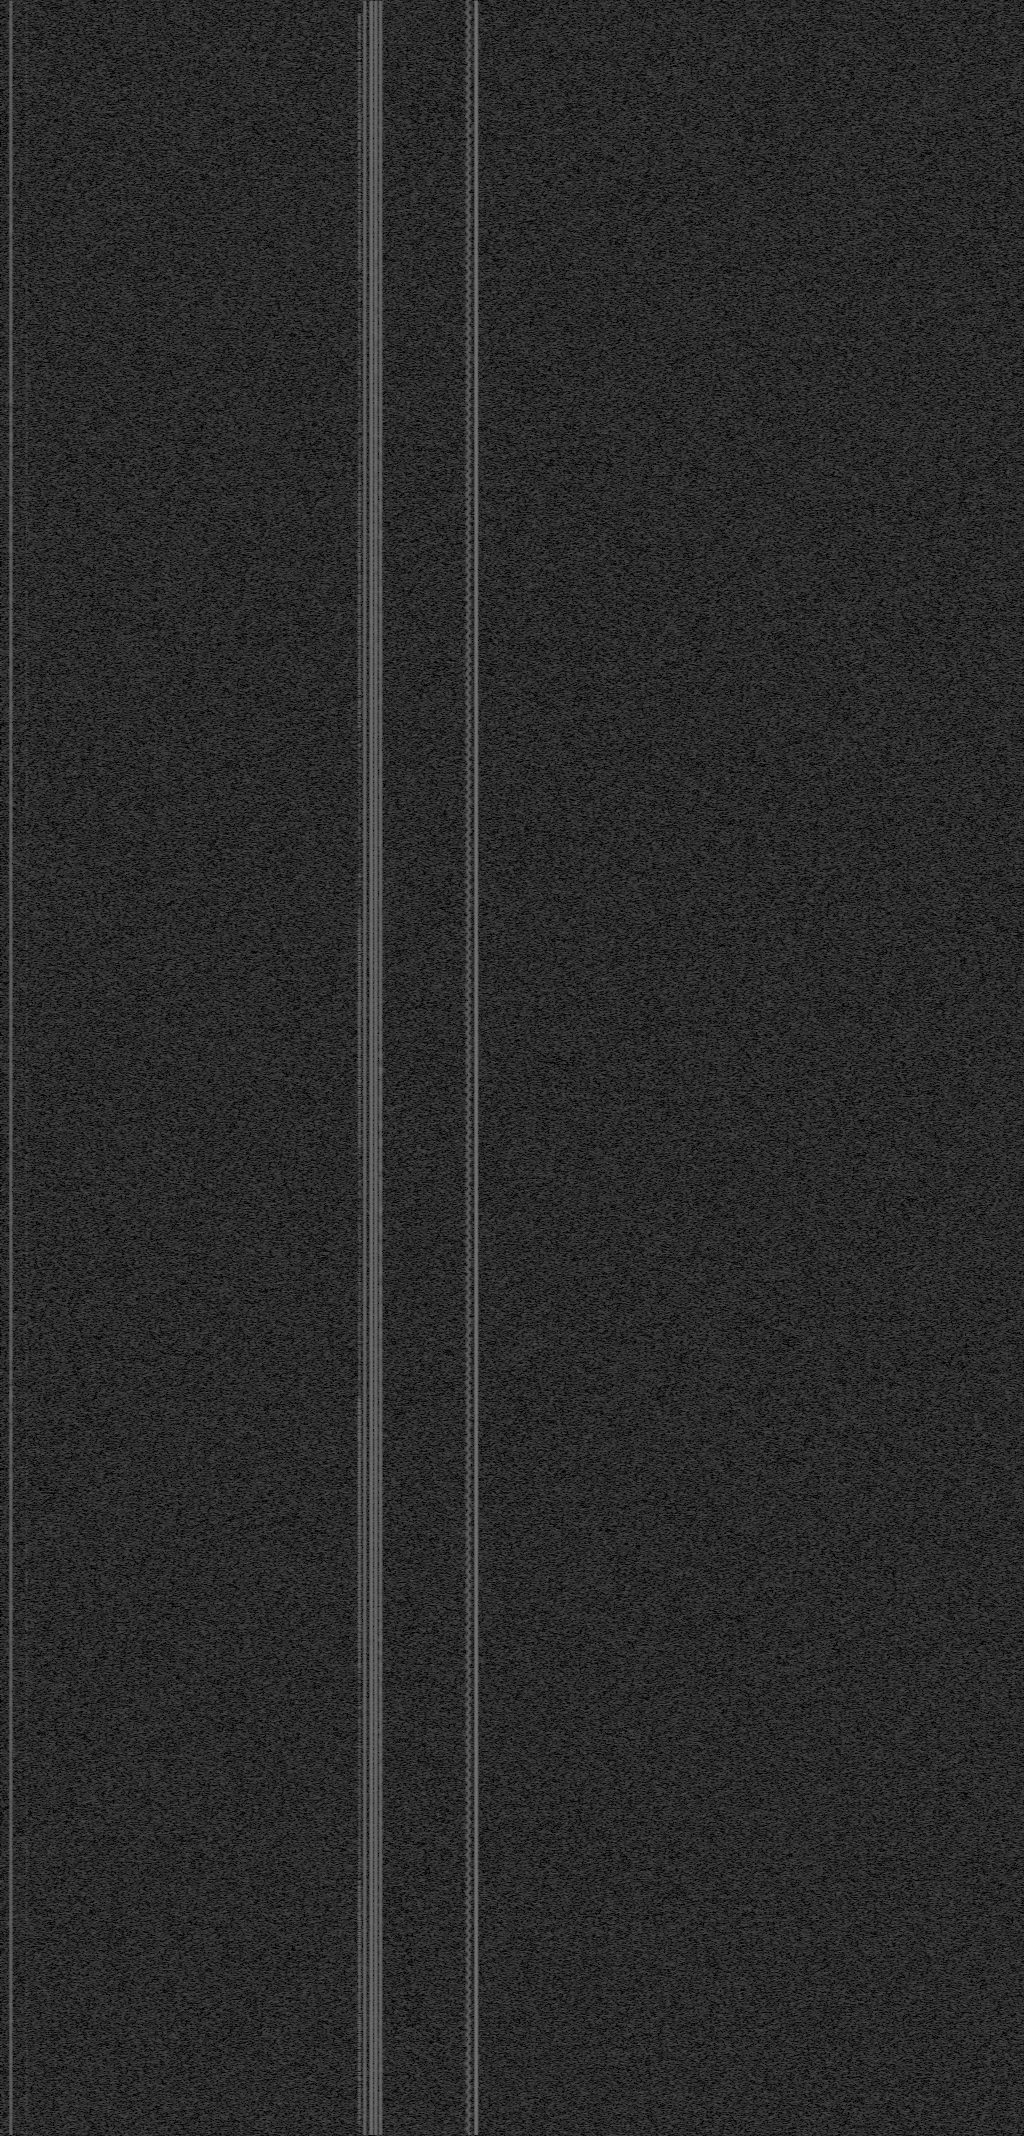wv_am: (8, 0, 14, 2135), (373, 0, 379, 2135), (379, 0, 383, 2135), (25, 1, 29, 1561), (25, 1652, 29, 2135), (25, 1601, 29, 1648), (25, 1568, 29, 1594)
wv_cw: (368, 0, 374, 2135), (473, 0, 479, 2135), (362, 0, 368, 2135)
wv_lsb: (357, 14, 362, 749), (357, 1706, 362, 2135), (357, 896, 362, 1301), (355, 1387, 362, 1706), (357, 1302, 362, 1385), (357, 853, 362, 895), (357, 774, 362, 816), (357, 817, 362, 851), (357, 751, 362, 772)
wv_wbfm: (463, 0, 473, 2135)
